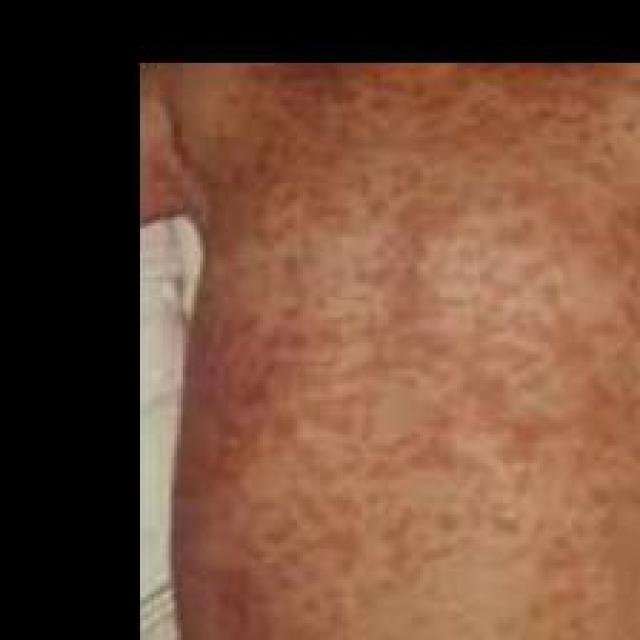others: (120, 65, 637, 640)
